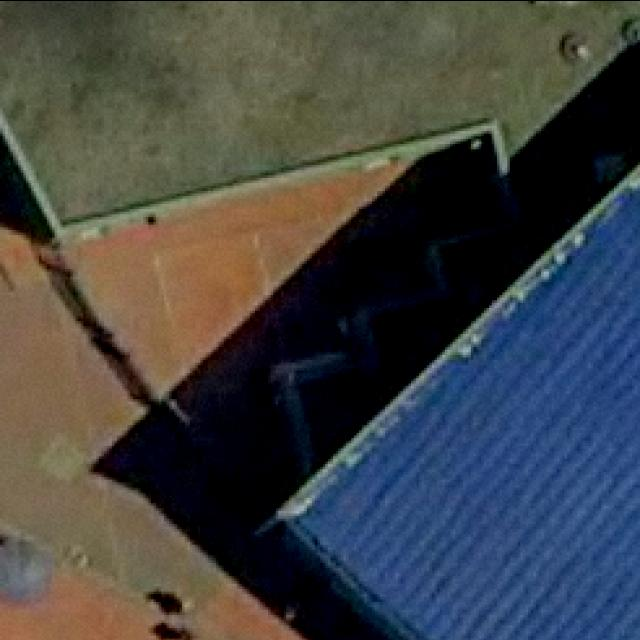vendedor_ambulante: (0, 531, 57, 609)
